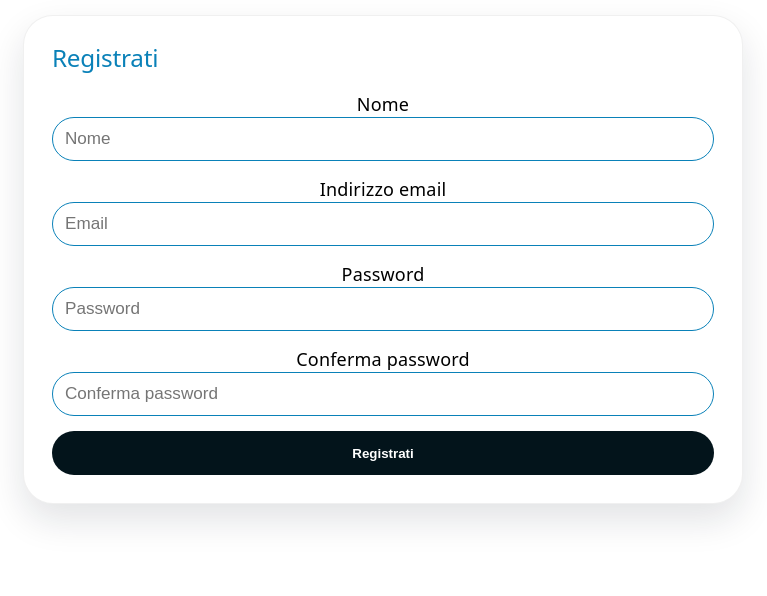
Scenario: RegitrationForm inserimento dati non validi › email non valida, password non coincidente
Type "Test User" into the field labelled "Nome" at {"x": 383, "y": 139}, box [52,117,714,161]
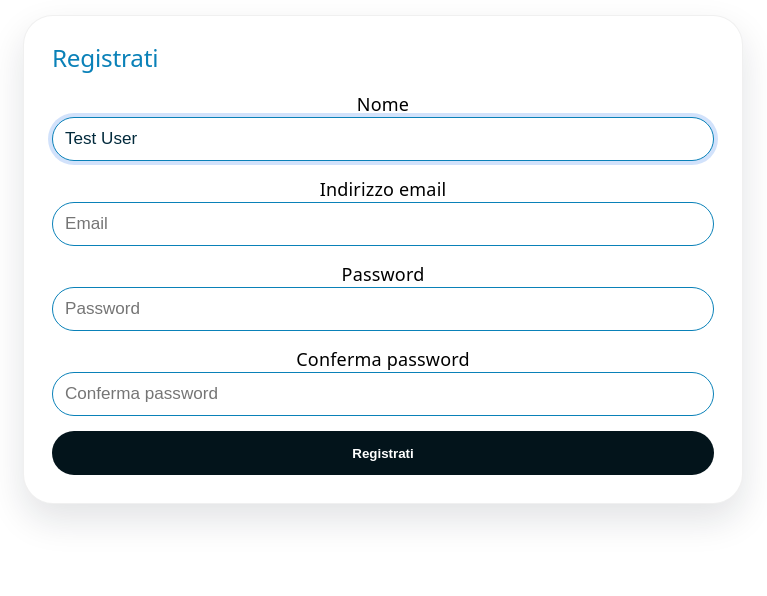
Type "testexample.com" into the field labelled "Indirizzo email" at {"x": 383, "y": 224}, box [52,202,714,246]
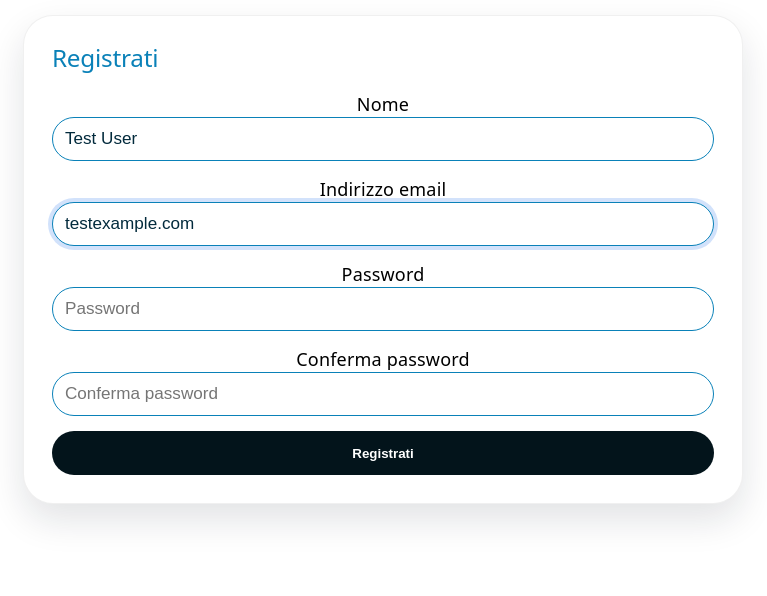
Type "password123" into the password field labelled "Password" at {"x": 383, "y": 309}, box [52,287,714,331]
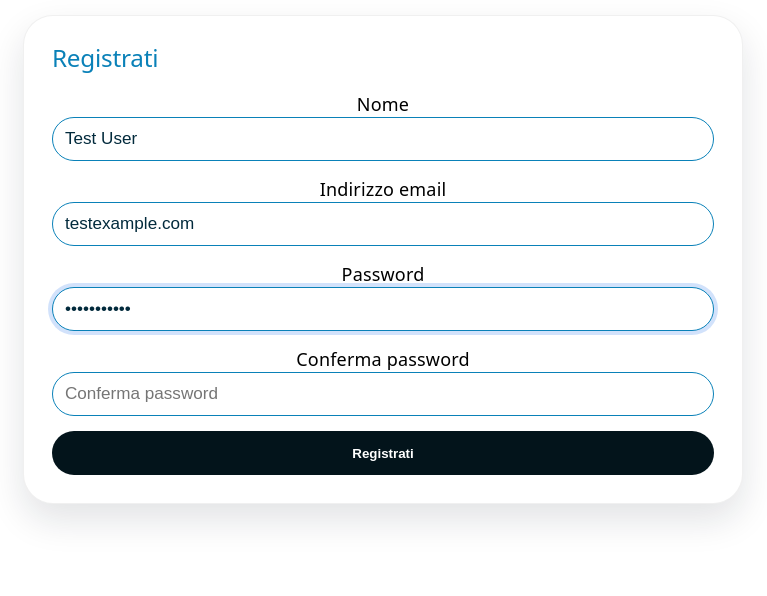
Type "password12" into the password field labelled "Conferma password" at {"x": 383, "y": 394}, box [52,372,714,416]
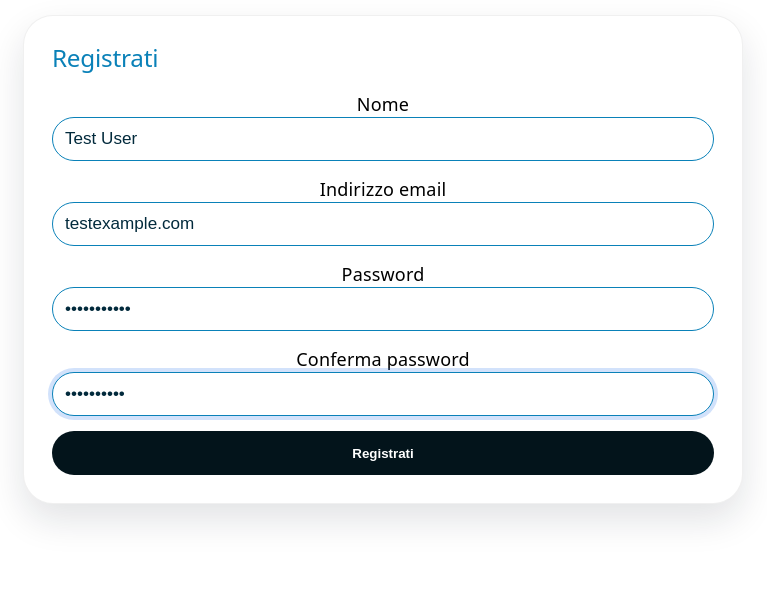
Click the button "Registrati" at {"x": 383, "y": 453}, box [52,431,714,475]
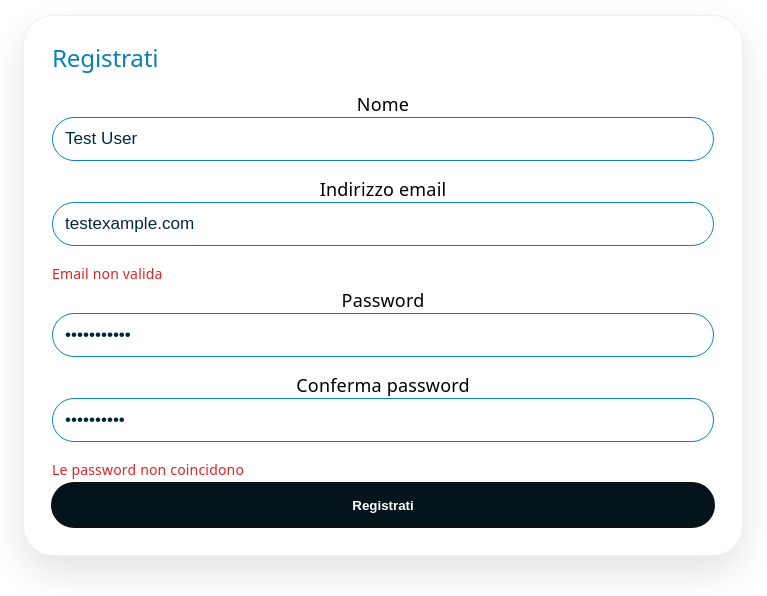
Now the text "Email non valida" is shown, box [52,264,162,283]
Now the text "Le password non coincidono" is shown, box [52,460,244,479]
